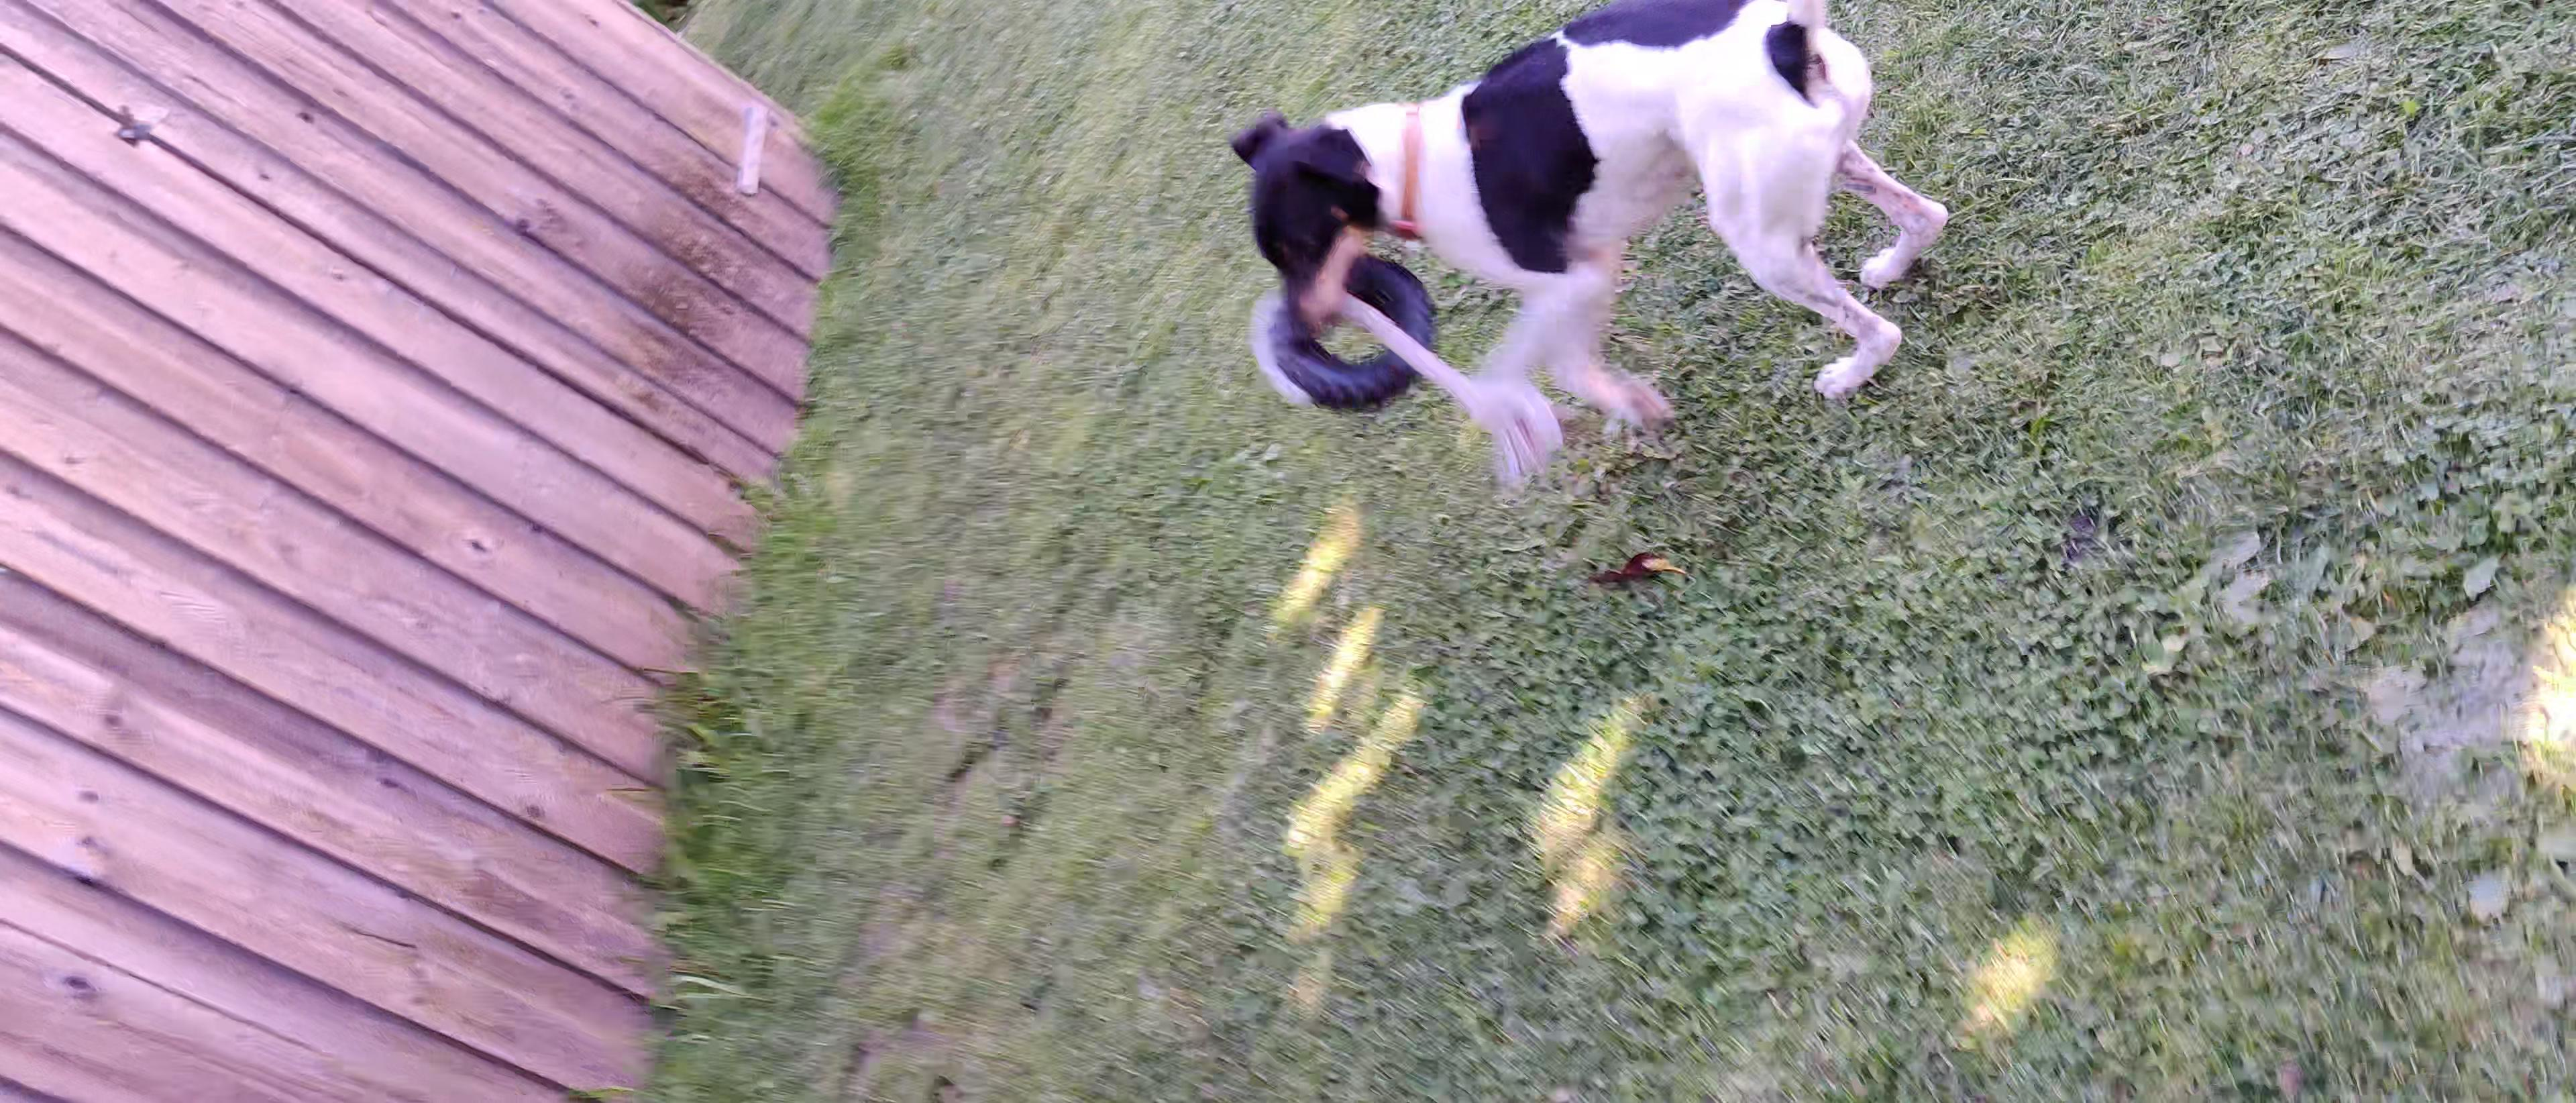Dog: (1224, 0, 1968, 447)
